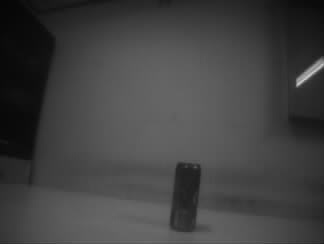Tin can: (168, 160, 203, 233)
